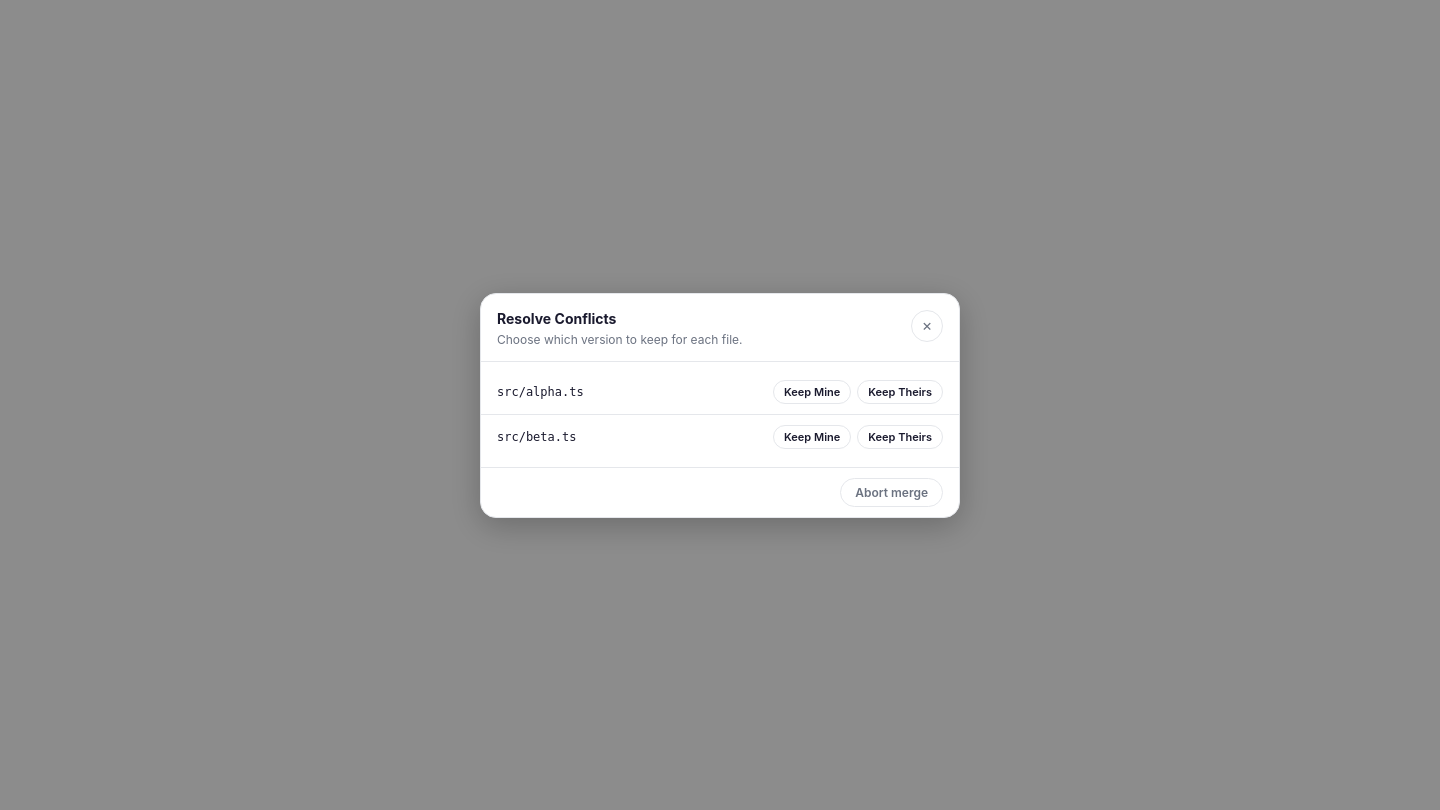
it: ConflictResolver › shows Resolved badge after a file is resolved
Click the button "Keep Mine" in the row of "src/alpha.ts". click: (812, 392)
box: [773, 380, 851, 404]
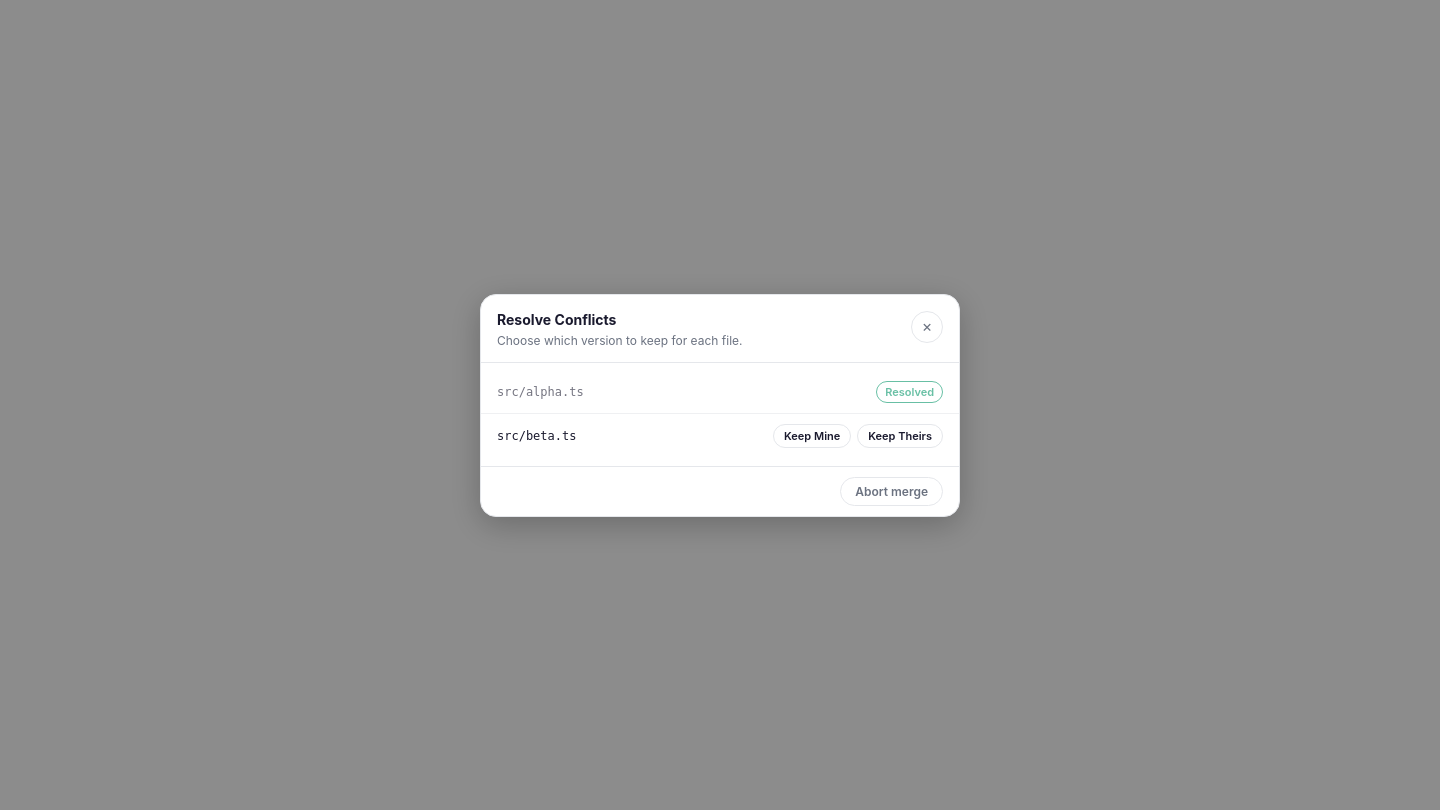
Now the text "Resolved" is shown, box [876, 380, 943, 402]
Now the number of buttons "Keep Mine" is 1, box [773, 424, 851, 448]
